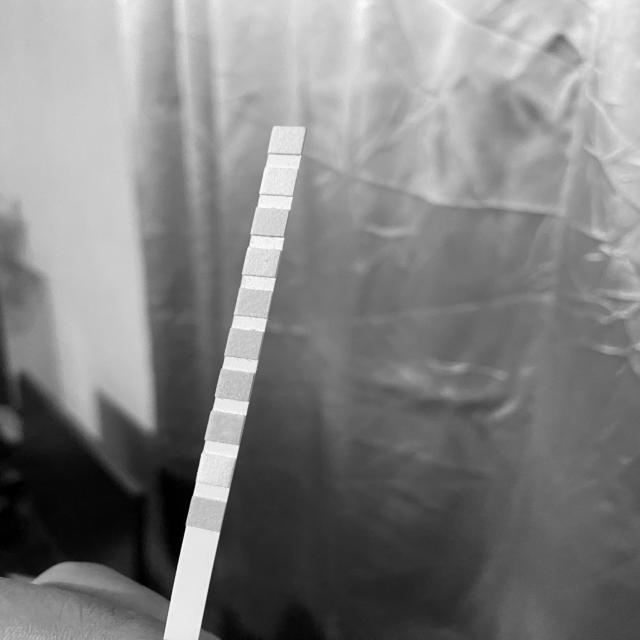Bilirubin: (200, 458, 232, 480)
Blood: (228, 334, 258, 356)
Glucose: (191, 501, 221, 527)
Ketone: (209, 417, 241, 440)
Leukocytes: (272, 132, 302, 152)
Nitrite: (264, 170, 294, 194)
Protein: (246, 252, 275, 275)
SpGravity: (218, 376, 250, 398)
Urobilinogen: (255, 212, 284, 235)
background: (0, 0, 640, 640)
pH: (238, 292, 268, 316)
strip: (164, 126, 306, 640)
